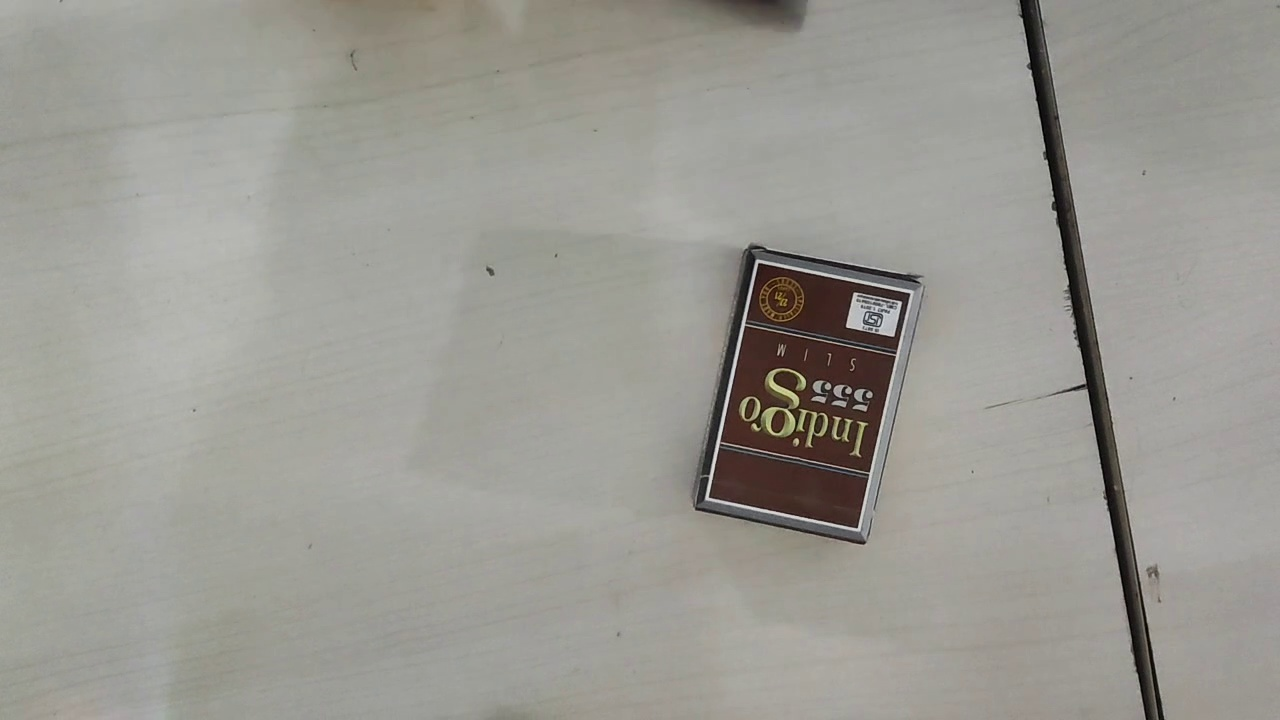BEX: (705, 263, 911, 529)
